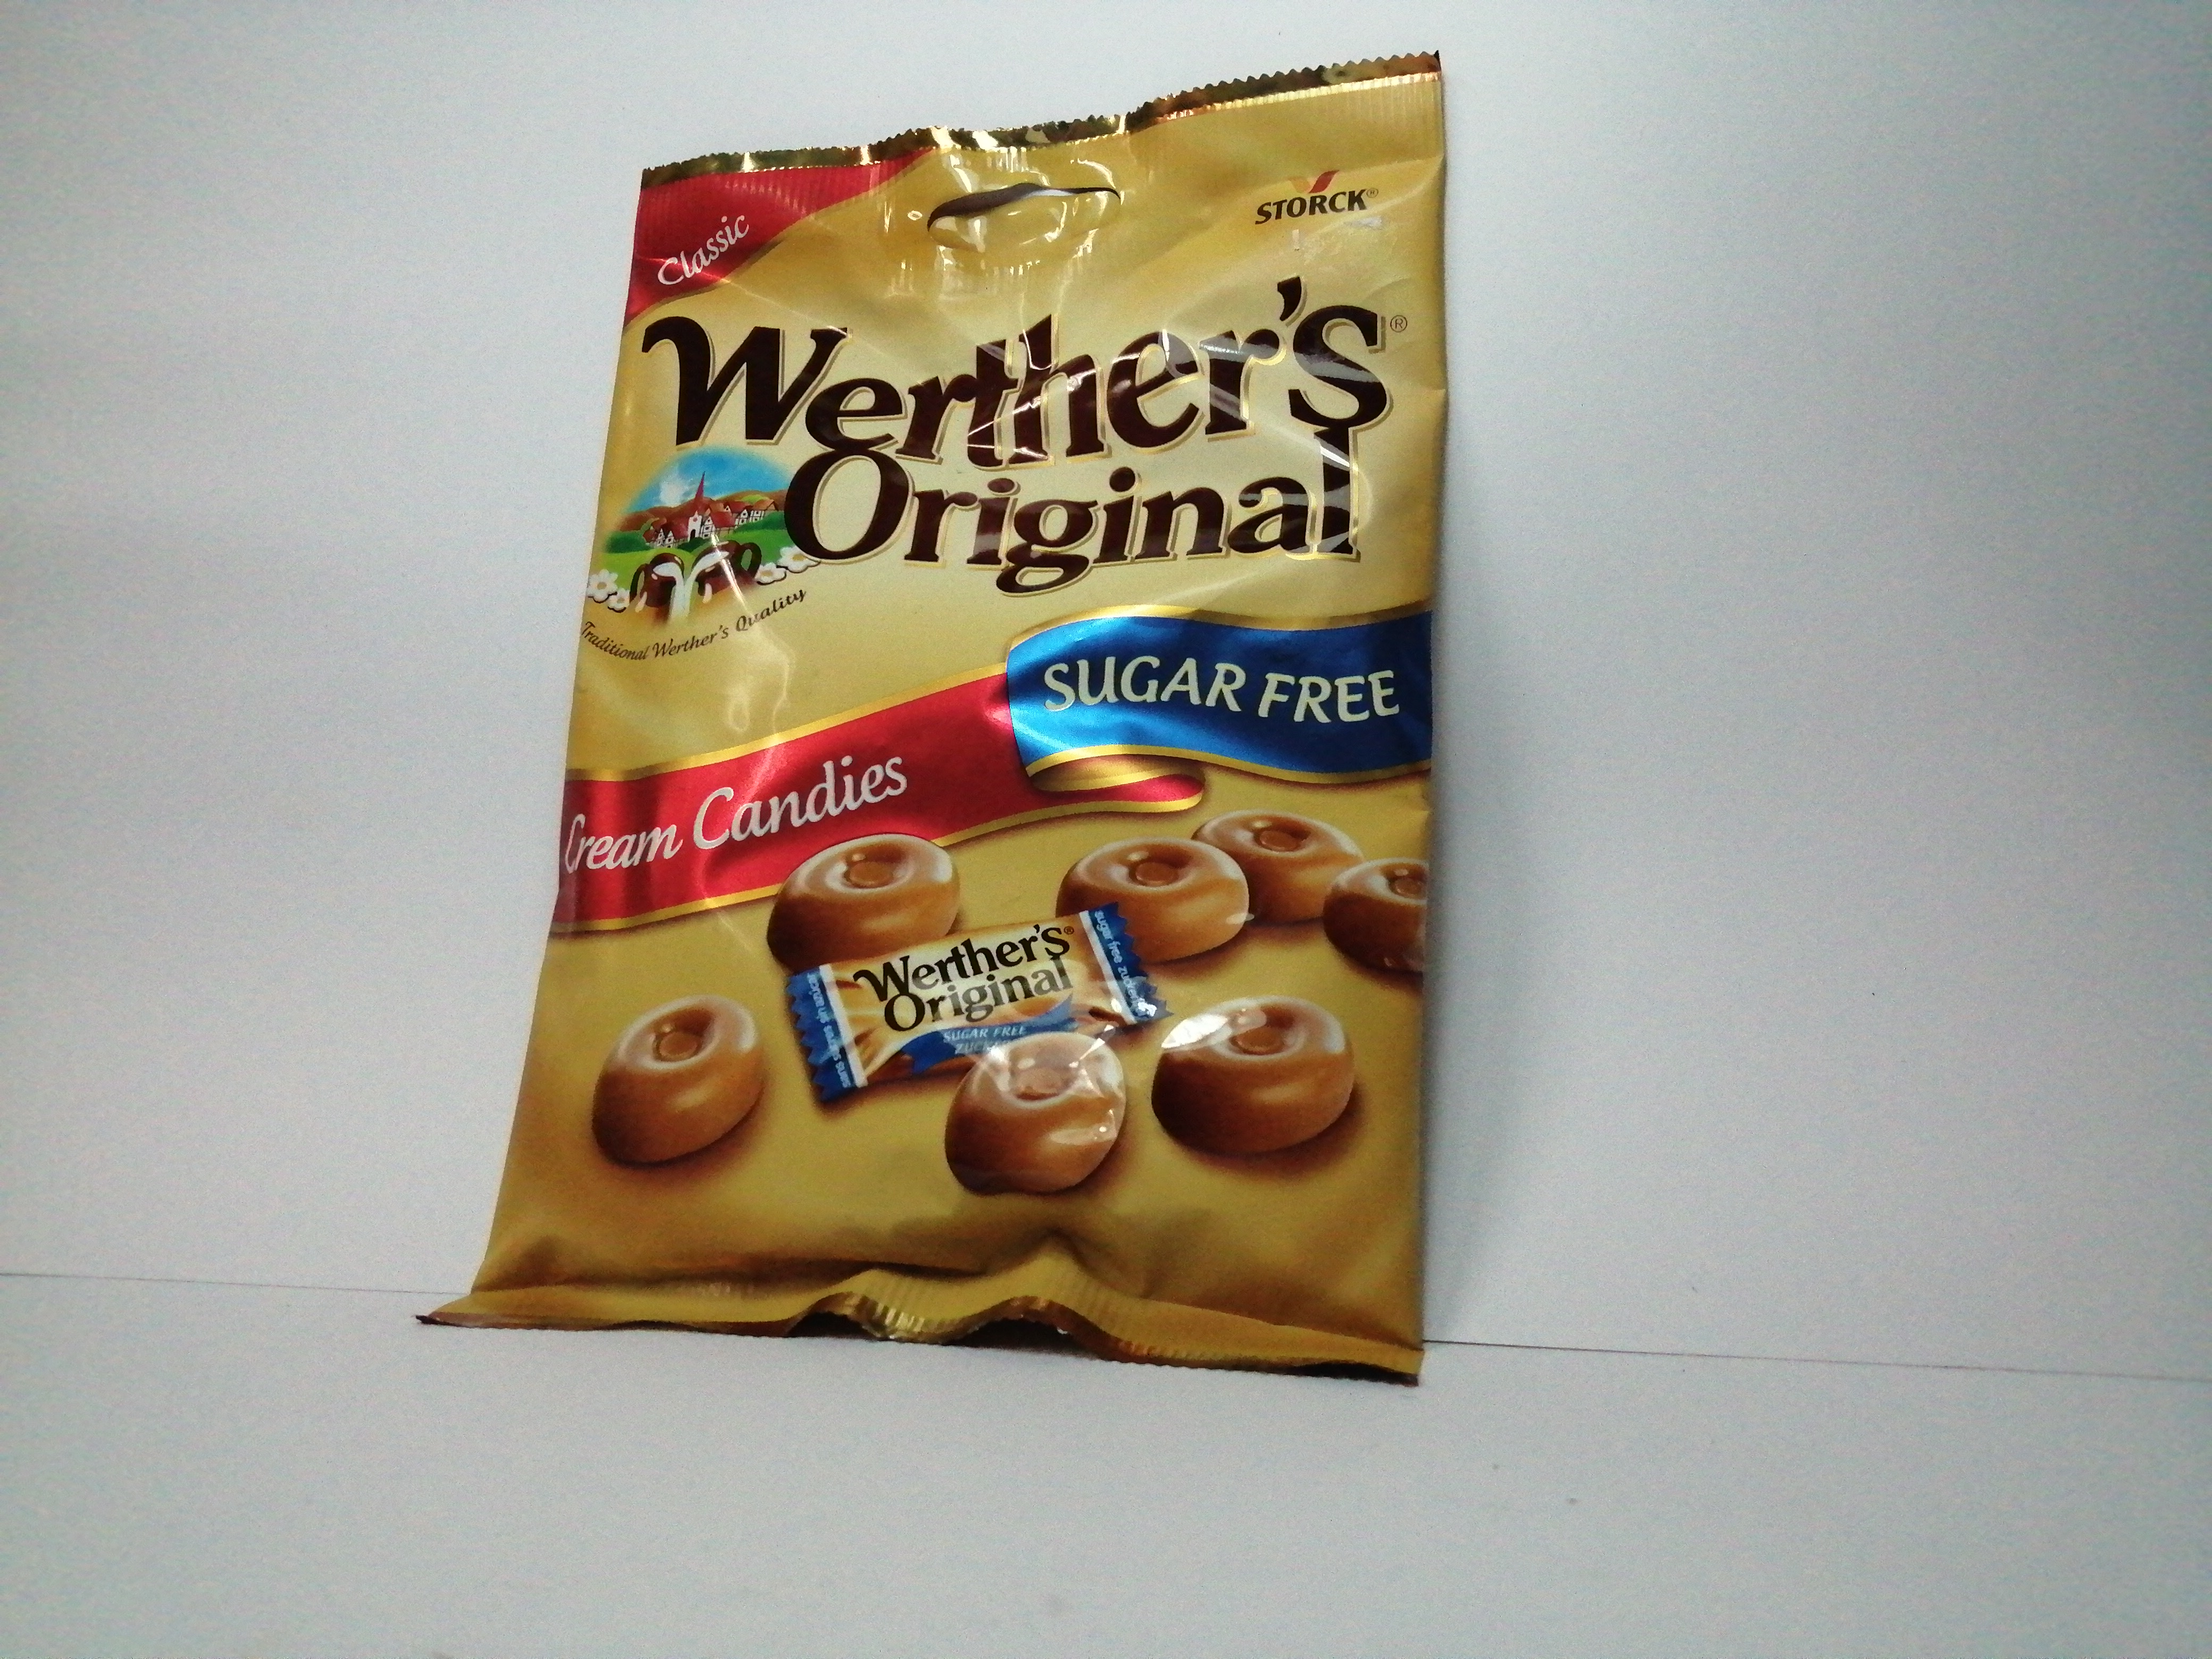dulces: (420, 52, 1453, 1389)
